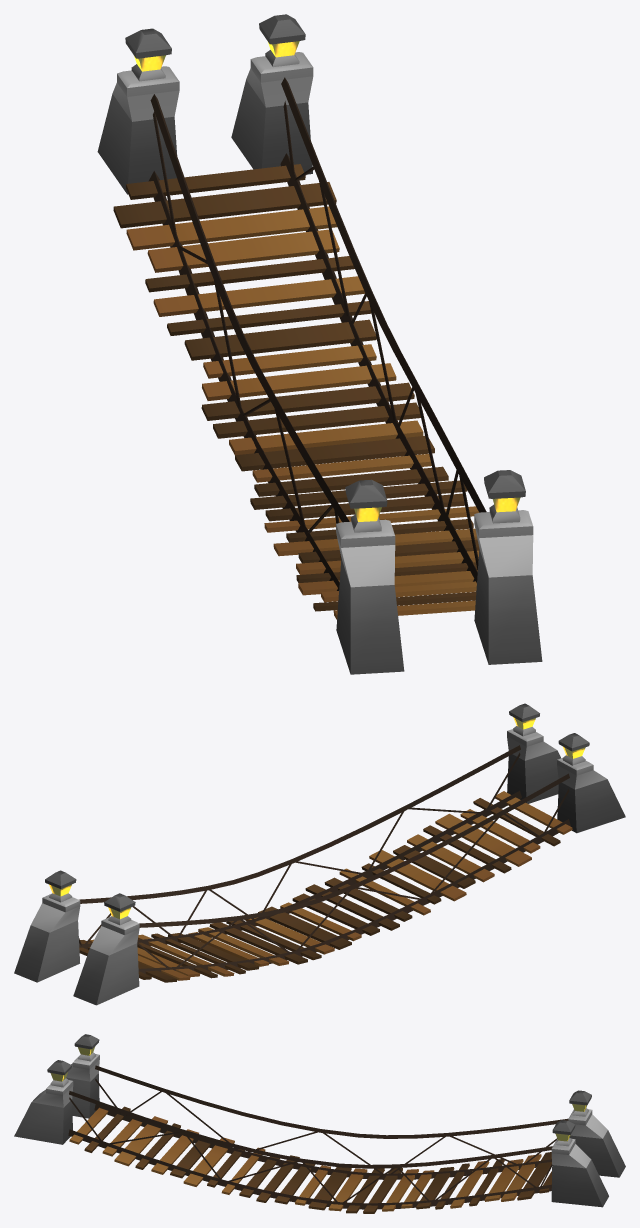
File: bridge_rope.glb
3 renders of one model, top to bottom at view 1: azimuth 30°, elevation 25°; view 2: azimuth 150°, elevation 25°; view 3: azimuth 270°, elevation 25°, orthographic. The views are drawn at different scales.
Parts seen in each view (by area): view 1: Object_2; view 2: Object_2; view 3: Object_2.
Boxes of the visible parts, x1,y1,x2,y2 form: Object_2: (97,14,542,674); Object_2: (14,703,625,1005); Object_2: (14,1034,625,1213).
Bounding box in the file's own units: 5.98 × 2.67 × 13.08.
1 material, 1 textured.
